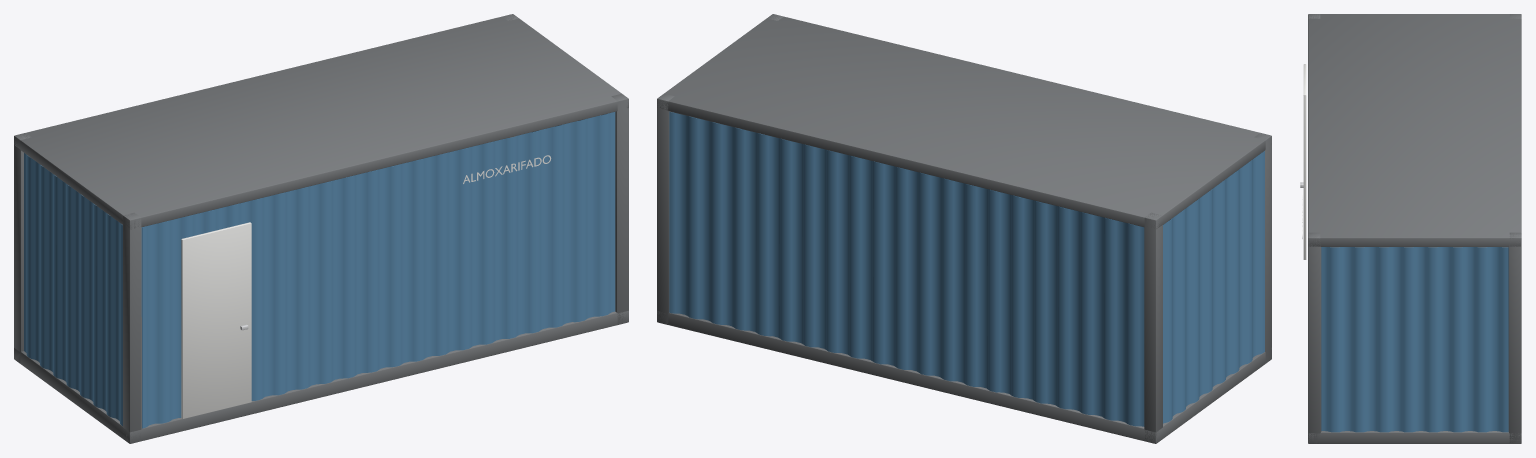
Rendered from SER-CNT-002_anim.glb.
3 views of the same model, side by side, from view 1: azimuth 30°, elevation 25°; view 2: azimuth 150°, elevation 25°; view 3: azimuth 270°, elevation 25° (orthographic). The views are drawn at different scales.
Parts seen in each view (by area): view 1: SER-CNT-002_anim0; view 2: SER-CNT-002_anim0; view 3: SER-CNT-002_anim0.
Part boxes in pixels (left/top/right/bottom): SER-CNT-002_anim0: left=14, top=14, right=628, bottom=443; SER-CNT-002_anim0: left=657, top=14, right=1271, bottom=443; SER-CNT-002_anim0: left=1300, top=14, right=1521, bottom=443.
Bounding box in the file's own units: 6.06 × 2.6 × 2.53.
